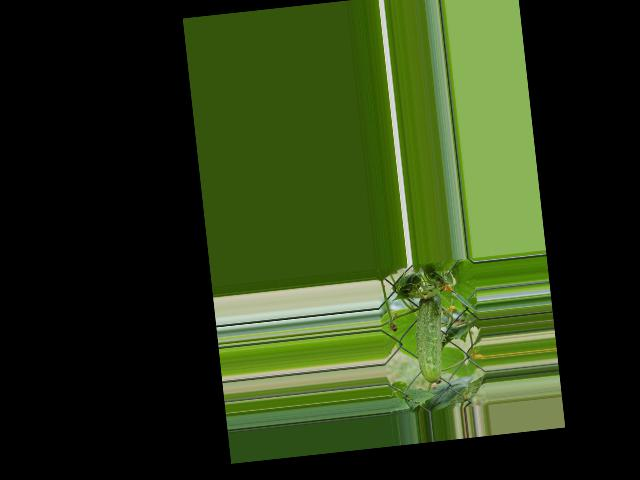cucumber: (410, 289, 449, 389)
